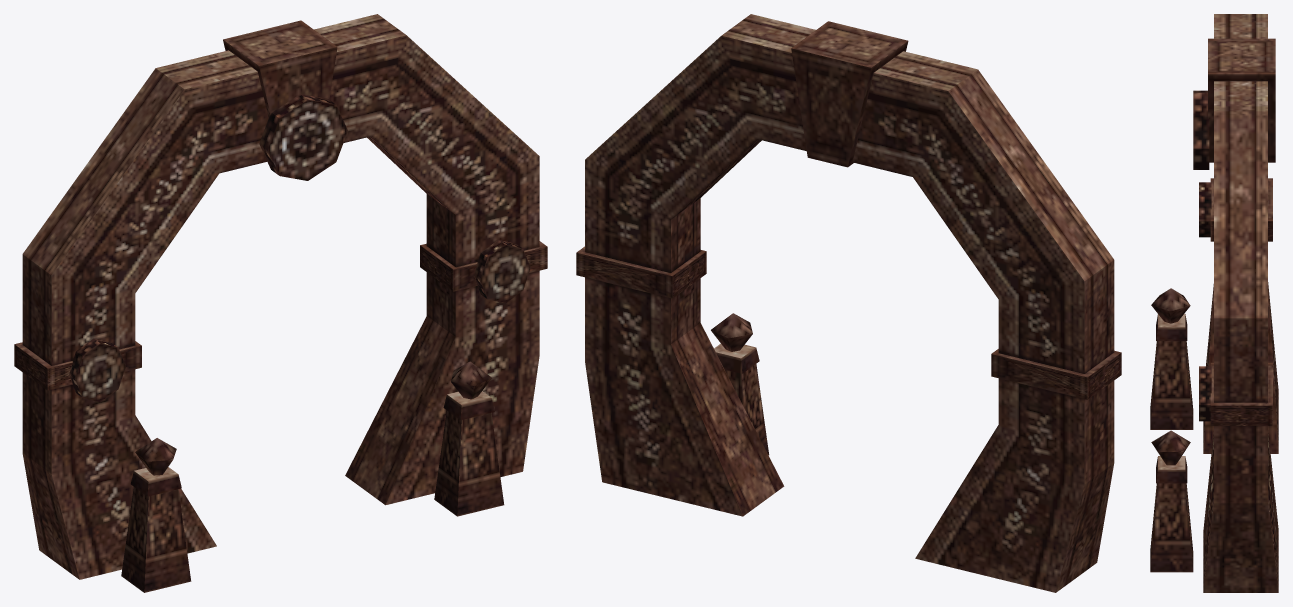
File: warpgate02.fbx
3 renders of one model, left to right at view 1: azimuth 30°, elevation 25°; view 2: azimuth 150°, elevation 25°; view 3: azimuth 270°, elevation 25°, orthographic. The views are drawn at different scales.
Visible parts, largest first — view 1: Object01; view 2: Object01; view 3: Object01.
Part boxes in pixels (left/top/right/bottom): Object01: left=14, top=14, right=547, bottom=592; Object01: left=576, top=14, right=1121, bottom=592; Object01: left=1150, top=14, right=1278, bottom=592.
Bounding box in the file's own units: 8.61 × 7.72 × 2.06.
